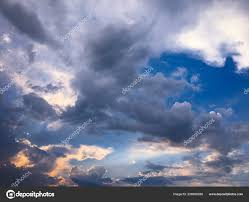sky: (1, 2, 248, 186)
